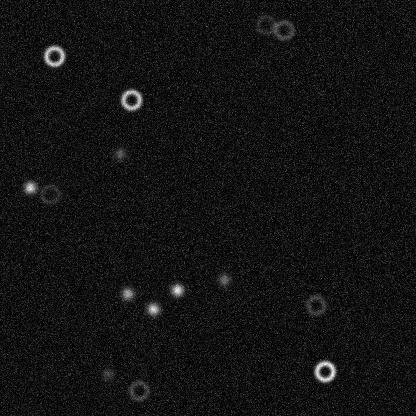Ring: (253, 12, 277, 36), (119, 87, 143, 111), (42, 44, 66, 68), (304, 293, 328, 317), (126, 378, 150, 402), (37, 182, 61, 206), (271, 18, 295, 42), (312, 359, 336, 383)
Spot: (215, 271, 231, 287), (22, 179, 38, 195), (112, 145, 128, 161), (169, 281, 185, 297), (119, 285, 135, 301), (145, 300, 161, 316), (99, 365, 115, 381)
